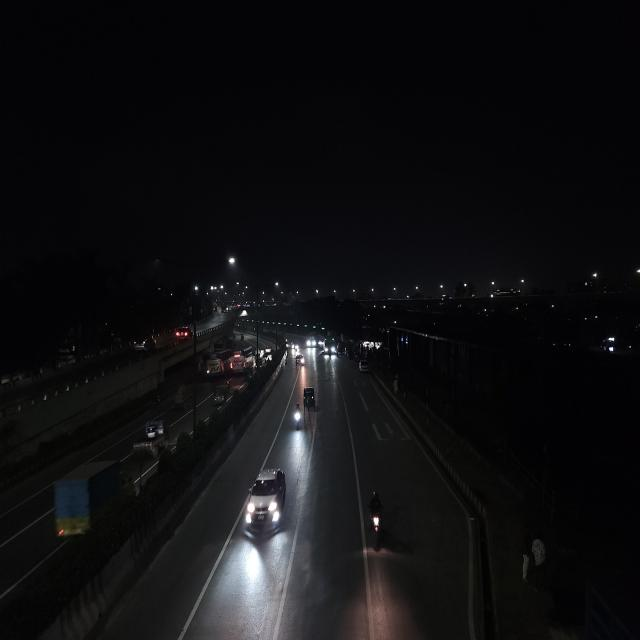bus: (230, 346, 254, 374), (206, 350, 228, 378), (324, 338, 337, 356), (306, 334, 318, 349)
car: (242, 464, 288, 540), (212, 383, 232, 410), (132, 334, 158, 353), (175, 326, 193, 341), (357, 356, 369, 374), (294, 354, 306, 367)
cng: (174, 381, 192, 407), (302, 384, 318, 412)
motorcycle: (366, 488, 388, 553), (292, 402, 304, 434)
pickup_van: (133, 416, 168, 461)
truck: (47, 454, 131, 545)
